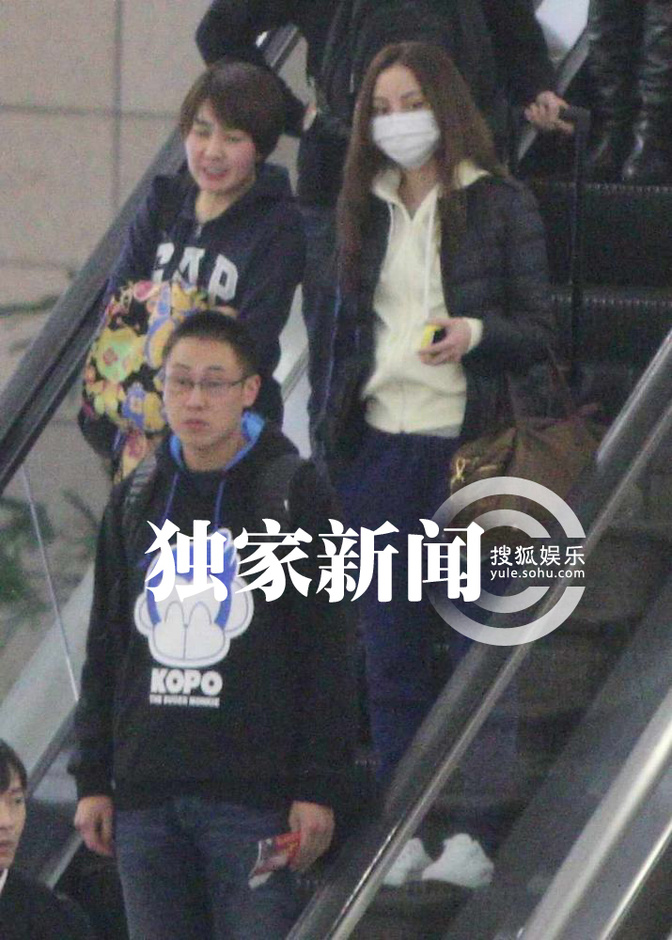face: (166, 338, 240, 450), (187, 88, 252, 193), (1, 775, 29, 875)
face_mask: (372, 63, 432, 167)
